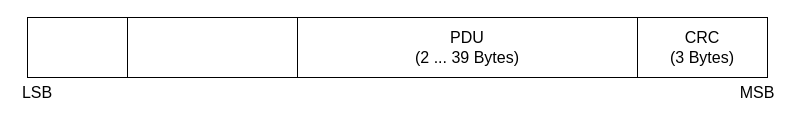
Some shapes in this 794 by 120 pixel diagram are drawn without their labels. The centre of each missing label's shape, as x and y in pixels:
Access Address (4 Bytes): pixel 212 47
Preamble (1 Byte): pixel 77 47
